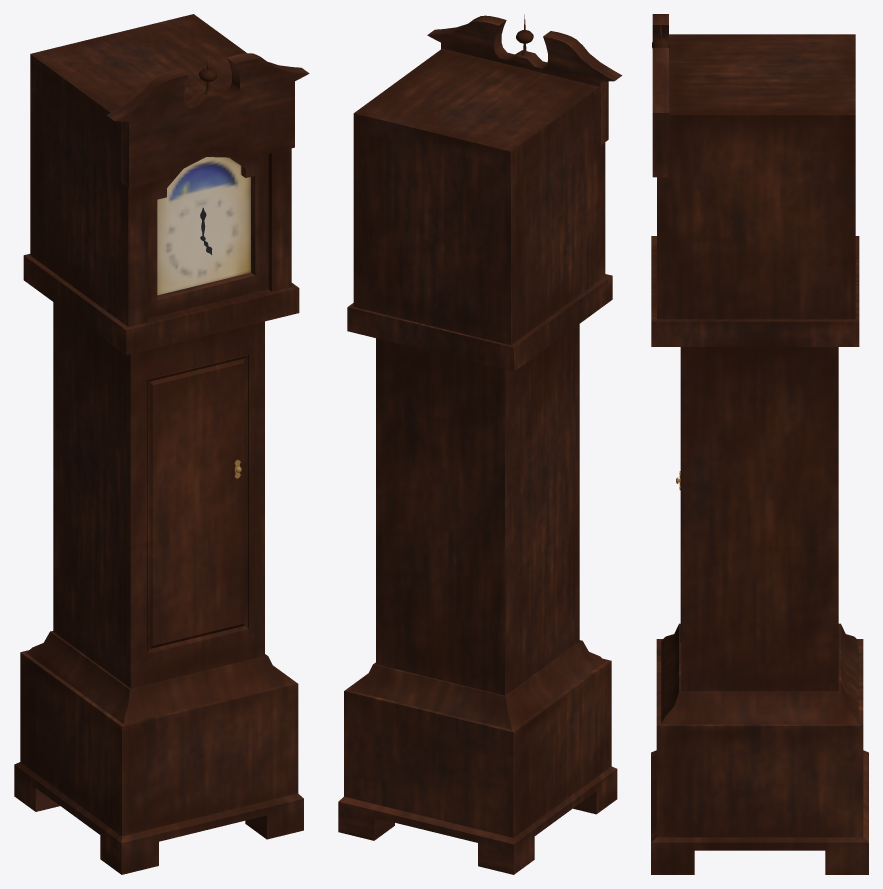
The model's file is EN_GrandfatherClock_01 (1).fbx.
The picture shows the model from 3 angles, left to right: view 1: azimuth 30°, elevation 25°; view 2: azimuth 150°, elevation 25°; view 3: azimuth 270°, elevation 25°; orthographic projection. The views are drawn at different scales.
Parts seen in each view (by area): view 1: GrandFatherClock; view 2: GrandFatherClock; view 3: GrandFatherClock.
Boxes of the visible parts, x1,y1,x2,y2 form: GrandFatherClock: (14,14,309,874); GrandFatherClock: (338,14,622,874); GrandFatherClock: (651,14,868,874).
Size of the model in its own units: 1.12 by 4.39 by 1.07.
